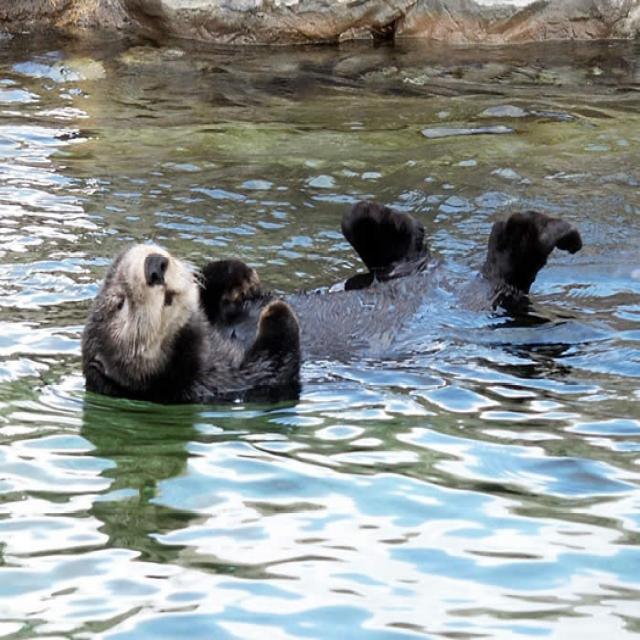otter: (84, 198, 579, 390)
